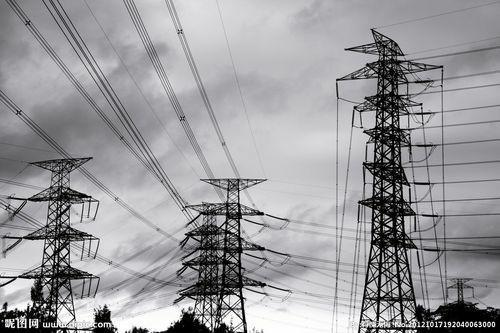power_tower: (331, 25, 453, 328), (0, 147, 103, 333), (207, 170, 269, 331), (448, 272, 480, 307)
